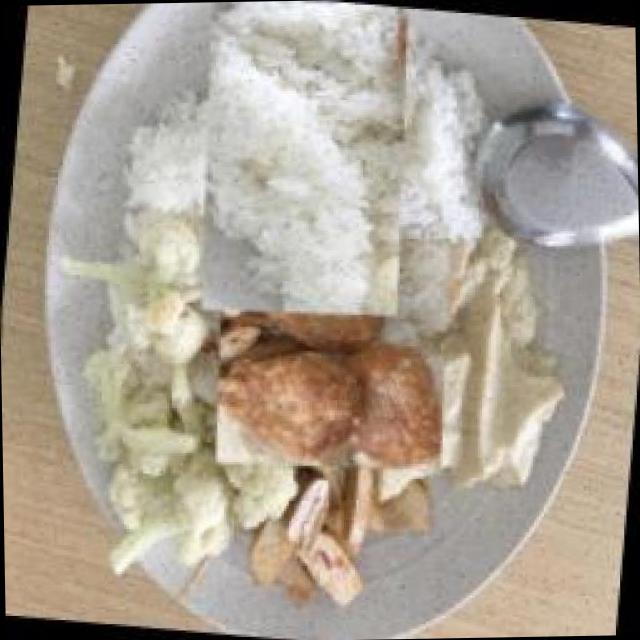rice: (147, 0, 455, 301)
triangle_hash_brown: (196, 220, 464, 488)
